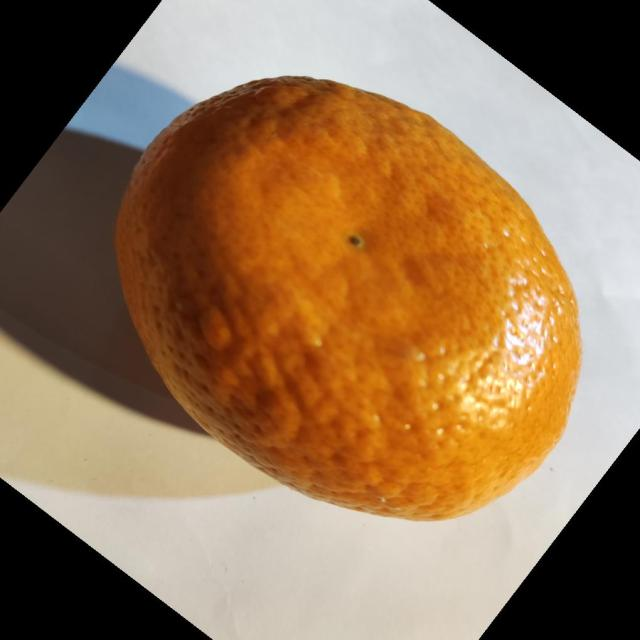fresh orange: (113, 73, 583, 522)
